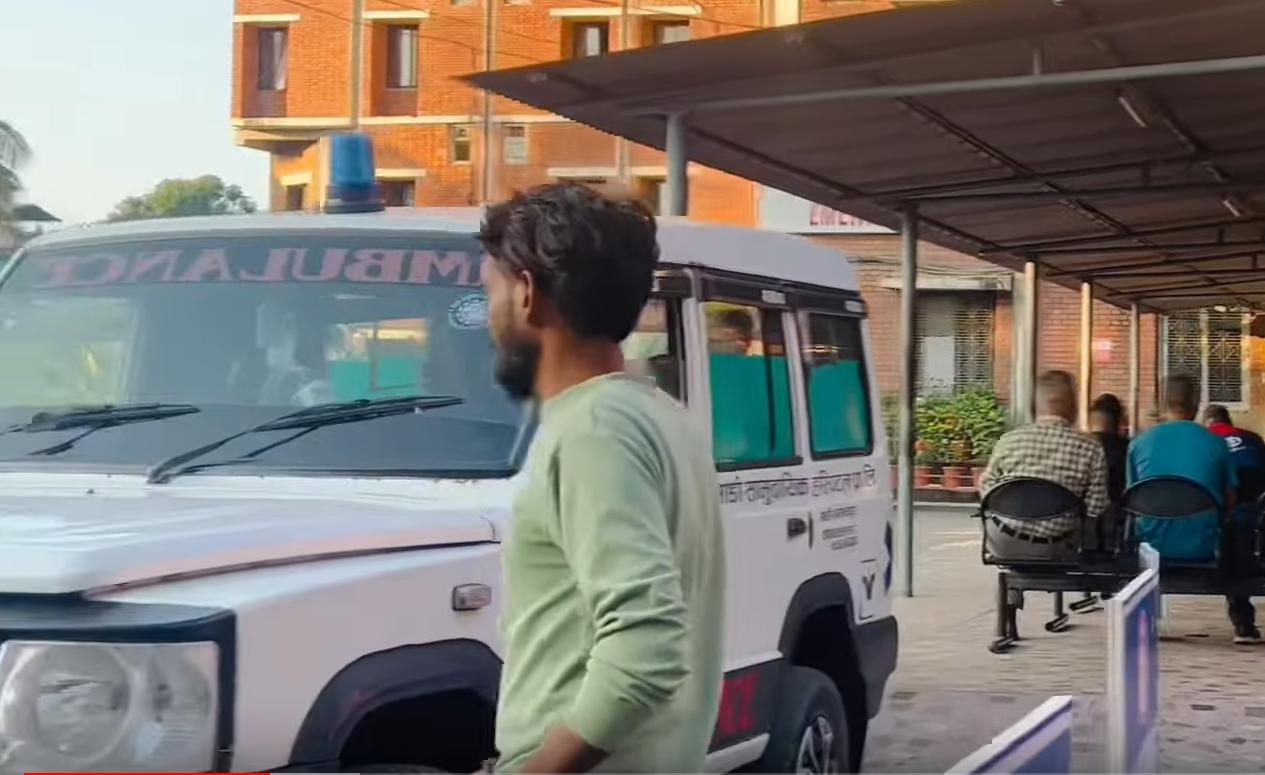ambulance: (0, 127, 914, 775)
